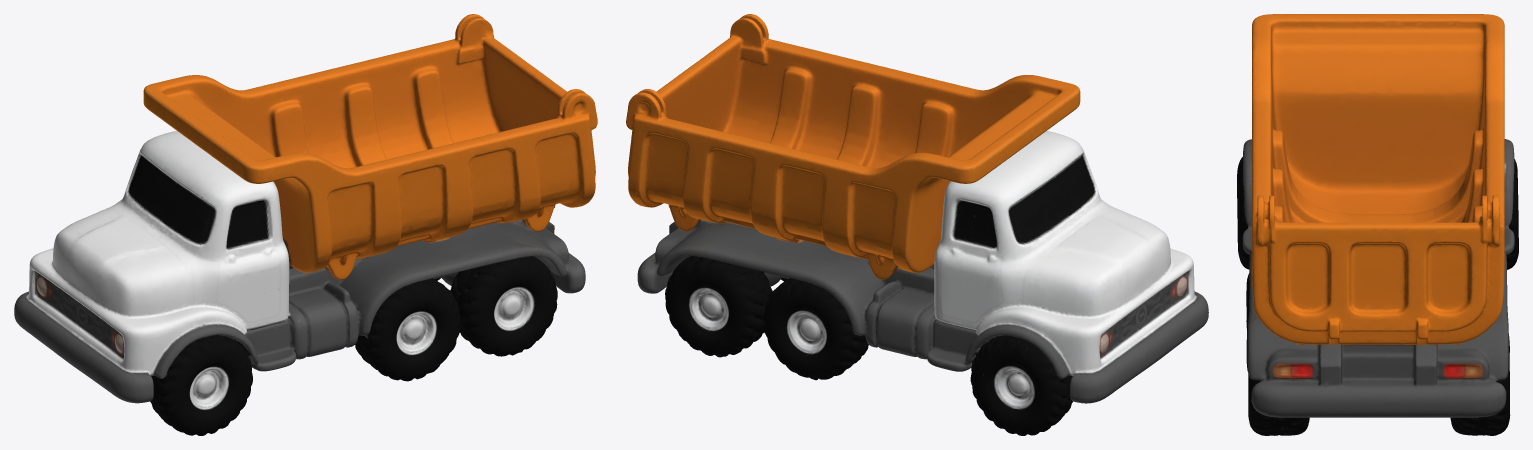
Rendered from cars_truck_dump.glb.
The picture shows the model from 3 angles, left to right: view 1: azimuth 30°, elevation 25°; view 2: azimuth 150°, elevation 25°; view 3: azimuth 270°, elevation 25°; orthographic projection. The views are drawn at different scales.
Bounding box in the file's own units: 1.9 × 0.9346 × 0.8594.
1 material, 1 textured.
